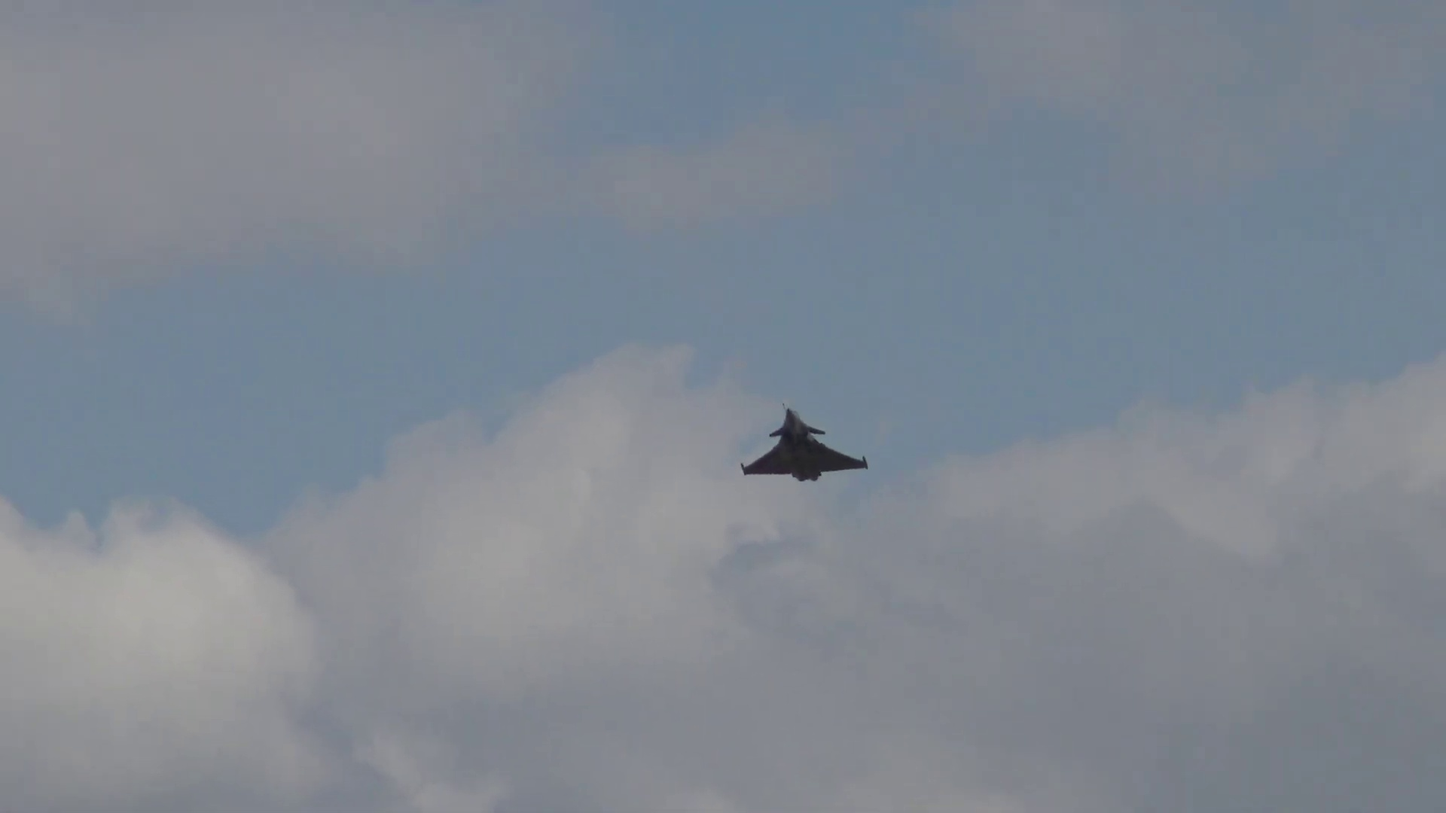Rafale: (739, 399, 870, 483)
